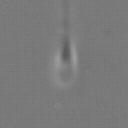normal: (48, 1, 81, 42)
